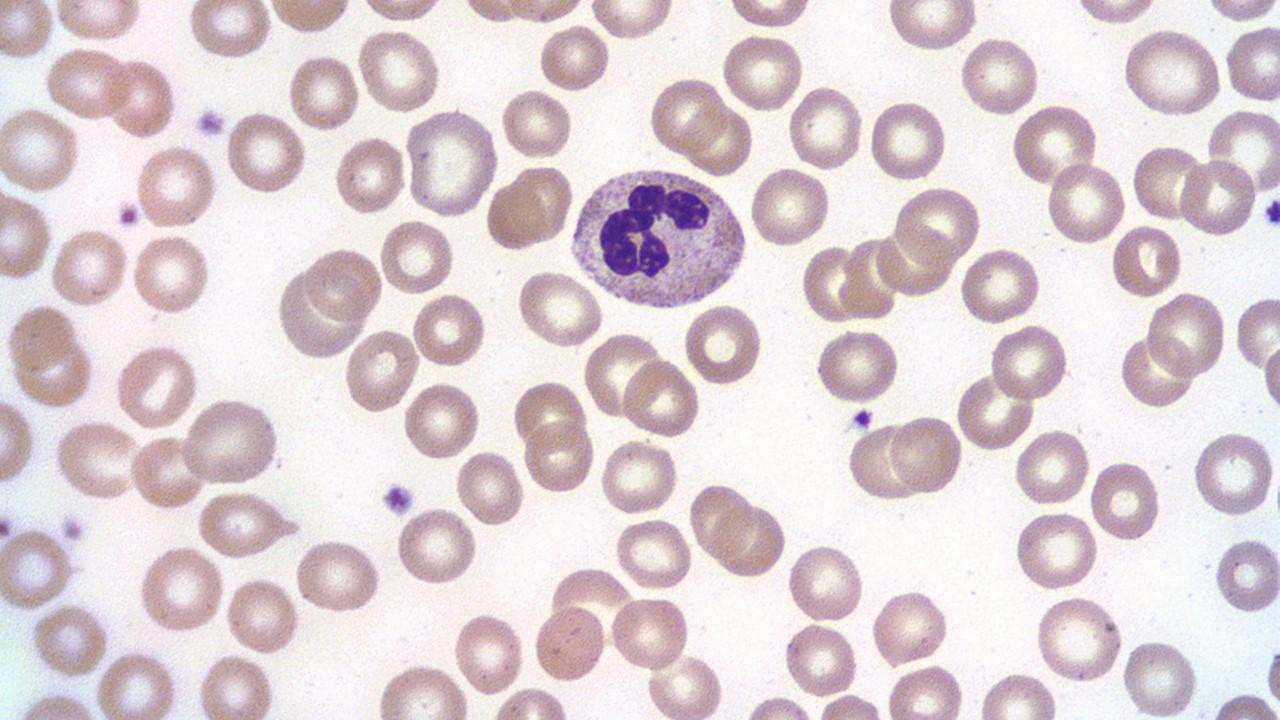Platelets: (379, 480, 416, 518), (193, 106, 228, 140), (57, 511, 89, 543), (115, 199, 144, 230), (1260, 197, 1280, 231), (850, 407, 875, 430)
RBC: (402, 105, 500, 219), (177, 395, 283, 488), (1119, 27, 1225, 119), (274, 264, 369, 363), (1033, 591, 1125, 685), (136, 542, 226, 636), (1009, 100, 1101, 190), (51, 418, 145, 503), (1145, 288, 1229, 382), (1192, 427, 1276, 520), (114, 340, 199, 431), (194, 490, 304, 560), (134, 142, 219, 232), (355, 26, 441, 114), (224, 108, 308, 198), (720, 28, 806, 115), (1012, 507, 1100, 592), (1044, 159, 1128, 248), (292, 535, 384, 616), (582, 329, 662, 422), (682, 299, 764, 389), (1205, 103, 1280, 201), (748, 163, 832, 250), (786, 81, 865, 173), (490, 164, 574, 250), (958, 32, 1041, 119), (814, 325, 902, 407), (0, 106, 81, 195), (514, 268, 604, 348), (867, 97, 949, 184), (608, 592, 692, 675), (894, 182, 980, 263), (48, 224, 129, 310), (621, 354, 702, 440), (955, 367, 1035, 454), (42, 44, 132, 121), (131, 232, 211, 318), (343, 327, 420, 416), (988, 320, 1069, 404), (402, 378, 482, 463), (785, 540, 865, 625), (451, 607, 526, 697), (394, 506, 476, 588), (647, 74, 727, 158), (598, 436, 680, 517), (1121, 635, 1201, 718), (960, 246, 1043, 326), (888, 411, 964, 498), (870, 586, 950, 668), (1180, 154, 1258, 238), (29, 601, 110, 681), (302, 245, 384, 324), (875, 222, 958, 300), (333, 132, 408, 218), (0, 525, 74, 612), (224, 574, 302, 656), (1012, 426, 1090, 508), (1088, 458, 1162, 544), (128, 432, 209, 510), (411, 289, 488, 371), (532, 601, 608, 684), (287, 48, 360, 134), (378, 216, 456, 296), (1130, 141, 1206, 223), (11, 336, 95, 410), (846, 420, 920, 504), (782, 620, 860, 699), (710, 499, 785, 580), (612, 516, 694, 590), (94, 647, 179, 718), (1118, 331, 1194, 410), (108, 54, 177, 140), (512, 375, 588, 453), (454, 446, 526, 528), (374, 658, 471, 718), (499, 84, 574, 161), (192, 651, 278, 717), (1110, 222, 1182, 300), (1213, 532, 1279, 617), (522, 418, 594, 495), (644, 652, 726, 718), (799, 242, 865, 323), (184, 1, 273, 61), (537, 22, 611, 94), (4, 302, 80, 372), (683, 104, 755, 177), (0, 187, 53, 283), (883, 660, 968, 719), (688, 480, 752, 558), (886, 1, 978, 54), (1224, 21, 1280, 104), (974, 670, 1060, 718), (52, 0, 145, 44), (1233, 292, 1279, 375), (585, 1, 678, 41), (0, 2, 55, 63), (0, 394, 36, 487), (264, 0, 354, 37), (722, 1, 816, 30), (1069, 0, 1161, 26), (496, 0, 585, 25), (356, 0, 447, 23), (1211, 690, 1279, 720), (1201, 1, 1280, 23), (1261, 334, 1280, 415)
WBC: (565, 161, 752, 314)
